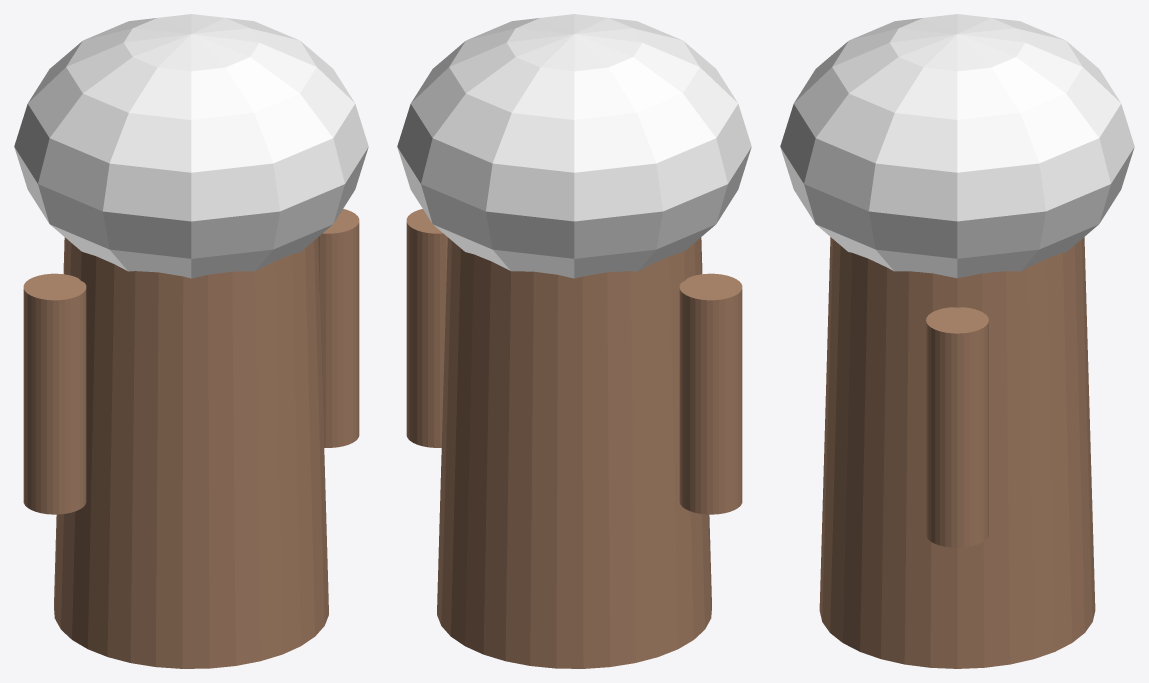
File: forest_monster.glb
3 renders of one model, left to right at view 1: azimuth 30°, elevation 25°; view 2: azimuth 150°, elevation 25°; view 3: azimuth 270°, elevation 25°, orthographic.
Parts seen in each view (by area): view 1: ForestMonster; view 2: ForestMonster; view 3: ForestMonster.
Boxes of the visible parts, left/top/right/bottom form: ForestMonster: left=14, top=14, right=368, bottom=668; ForestMonster: left=397, top=14, right=751, bottom=668; ForestMonster: left=780, top=14, right=1134, bottom=668.
Size of the model in its own units: 0.96 by 1.61 by 0.9.
